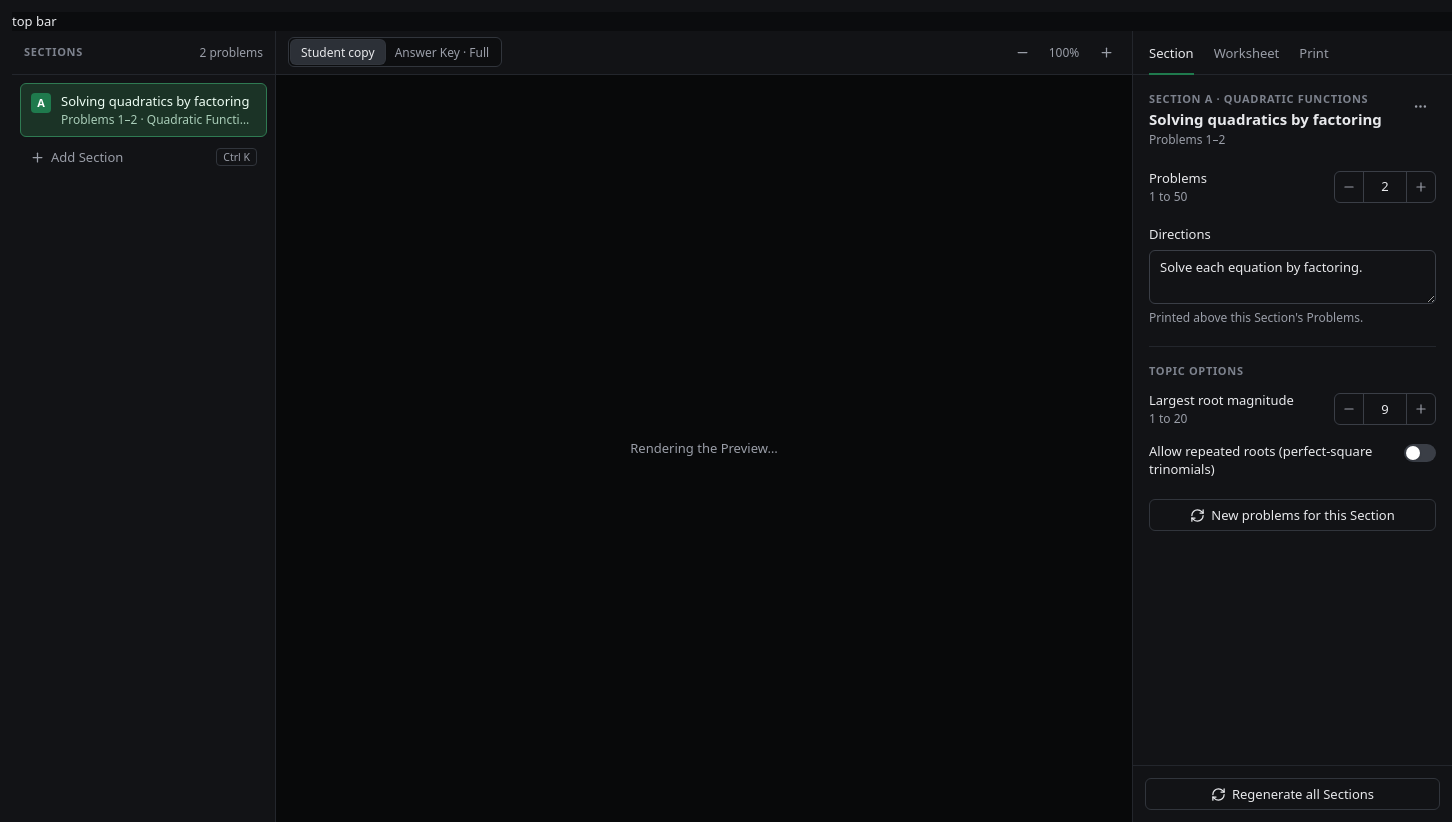
Test case: Editor: Worksheet and Print tabs › switches the whole sheet to multiple choice with 2 to 5 choices
Later steps or results of the test are not shown.
Click the tab "Worksheet". click: point(1246, 59)
box: left=1214, top=44, right=1279, bottom=75
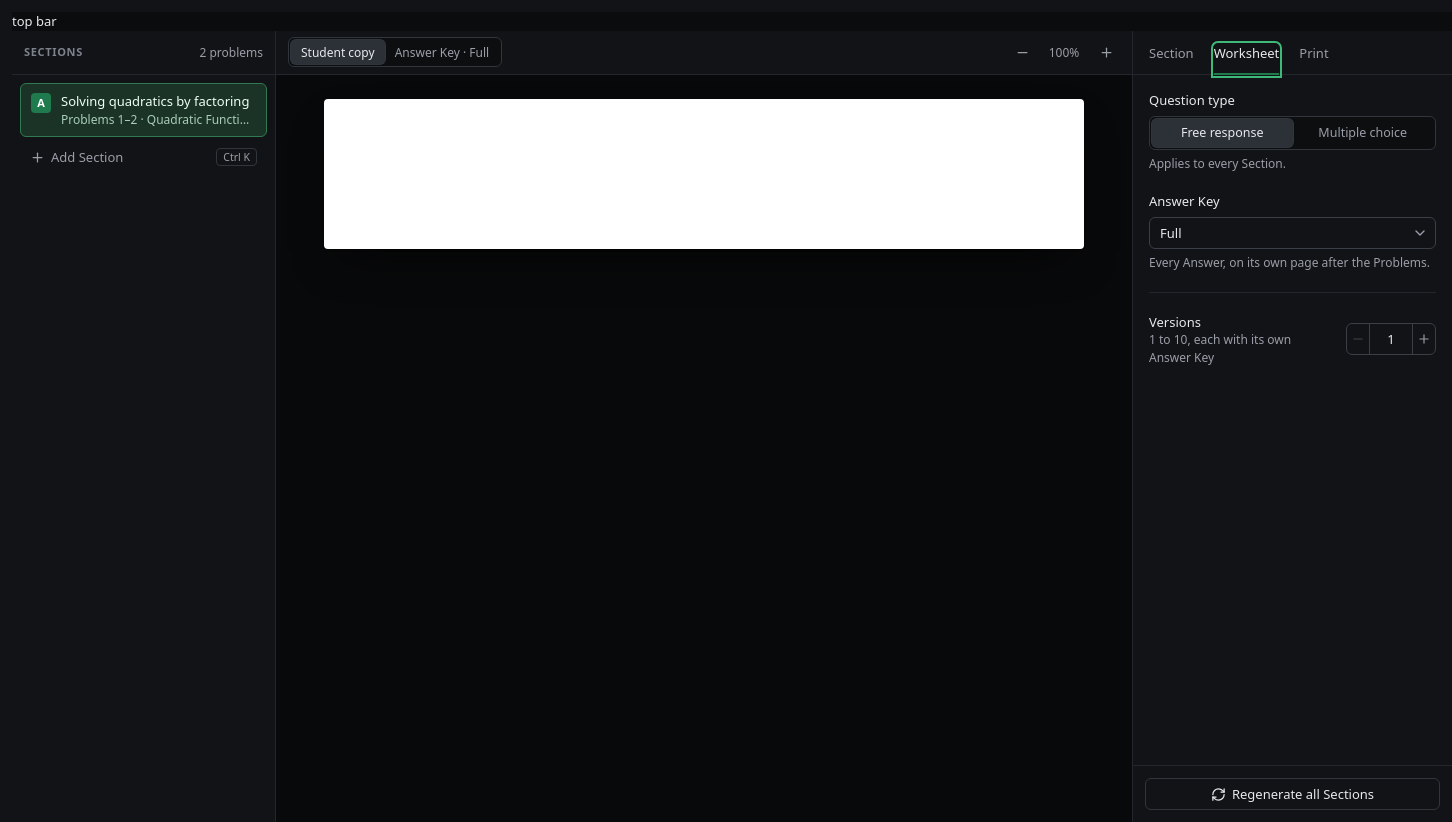
Expected: the text "Choices per problem" is not shown
Click the radio button labelled "Multiple choice". click: point(1363, 133)
box: left=1292, top=119, right=1433, bottom=147
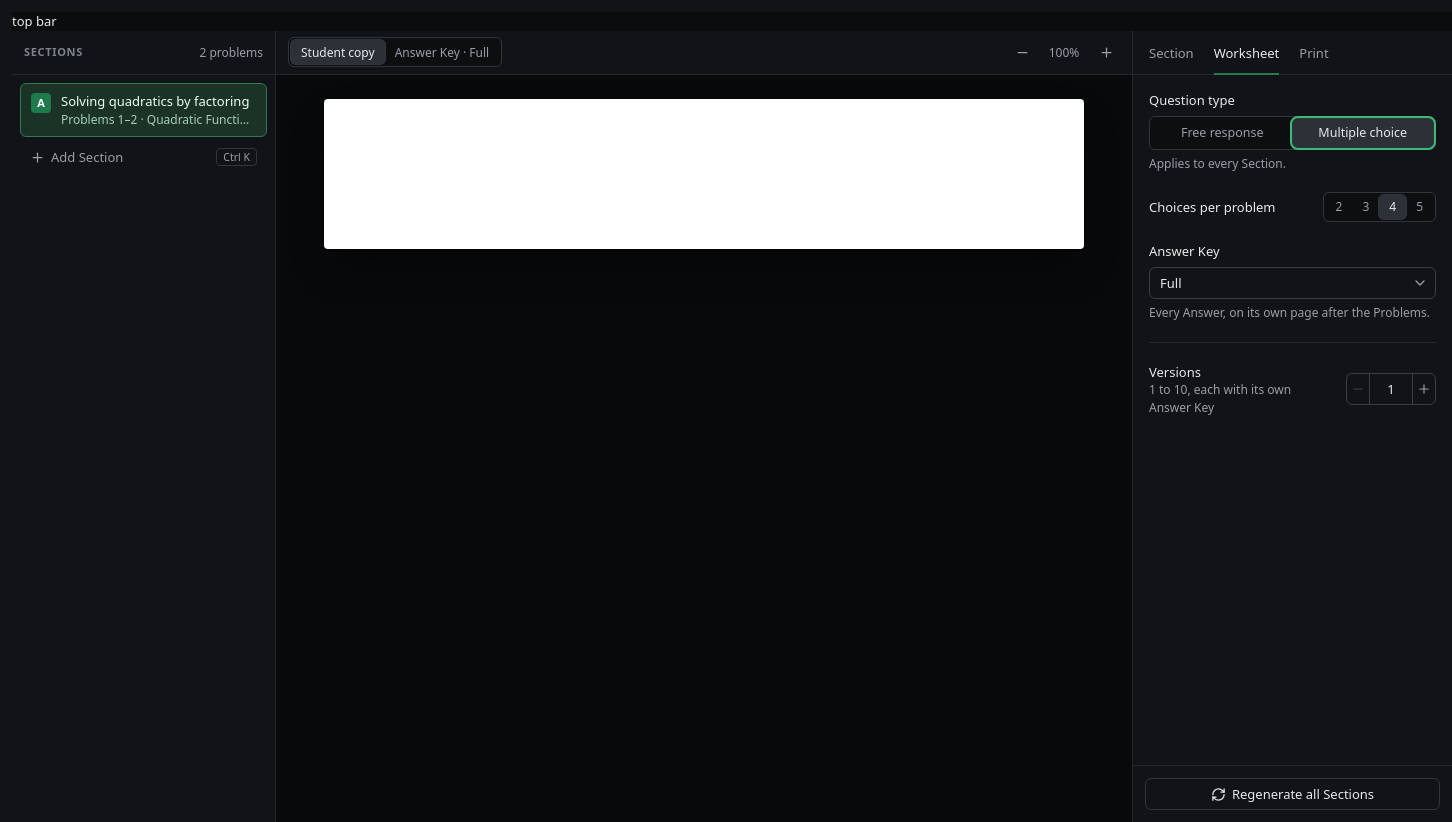
Expected: the radio buttons read "2", "3", "4", "5", in this order, left=1326, top=195, right=1352, bottom=219; left=1352, top=195, right=1379, bottom=219; left=1379, top=195, right=1406, bottom=219; left=1406, top=195, right=1433, bottom=219
